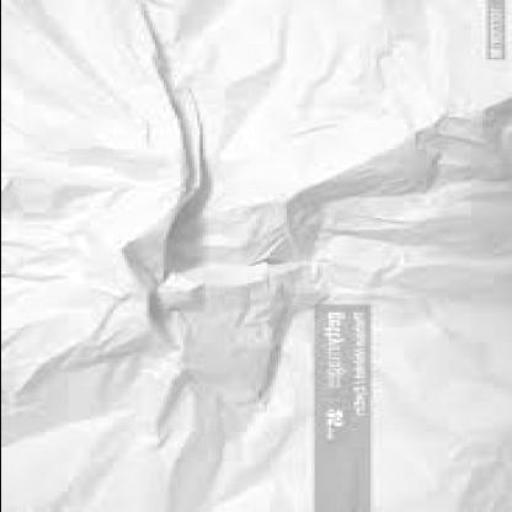paper: (1, 0, 511, 511)
